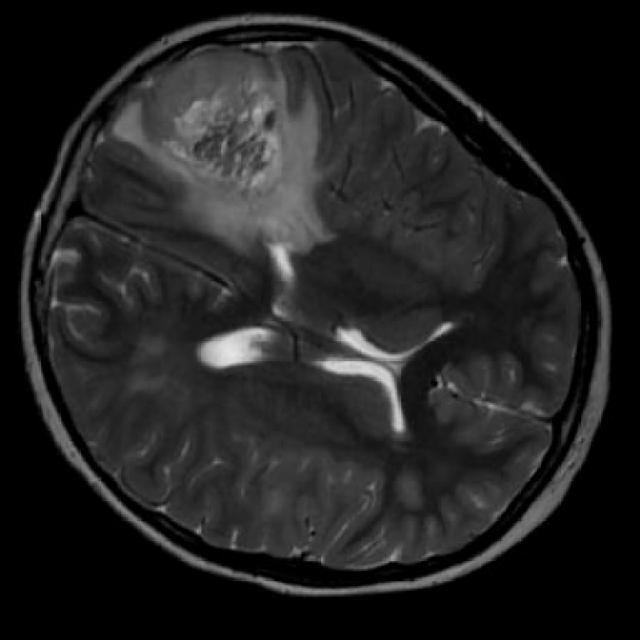Brain-Tumor: (111, 33, 351, 263)
